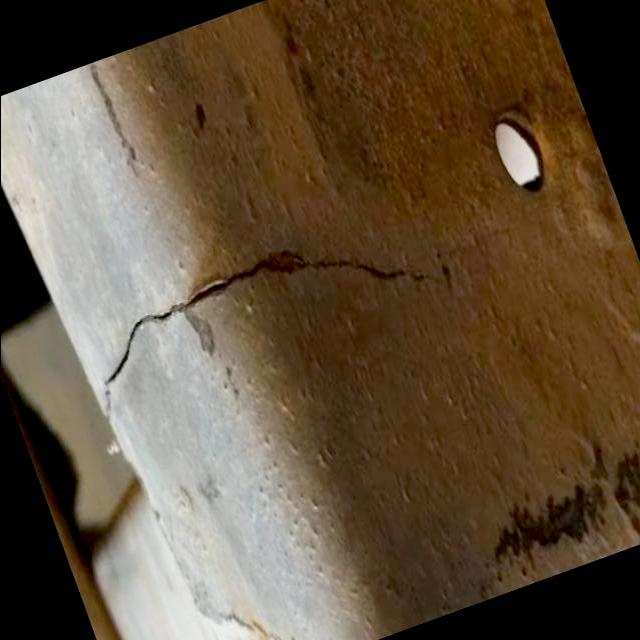defect: (97, 248, 456, 425)
